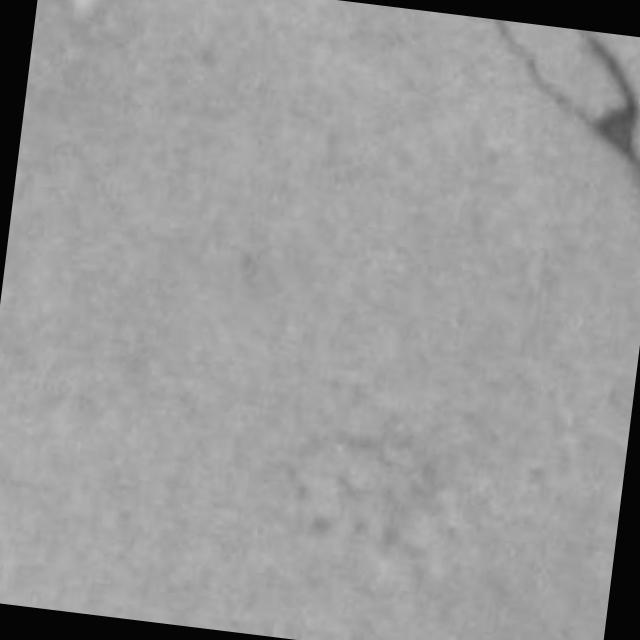crack: (493, 19, 639, 180)
